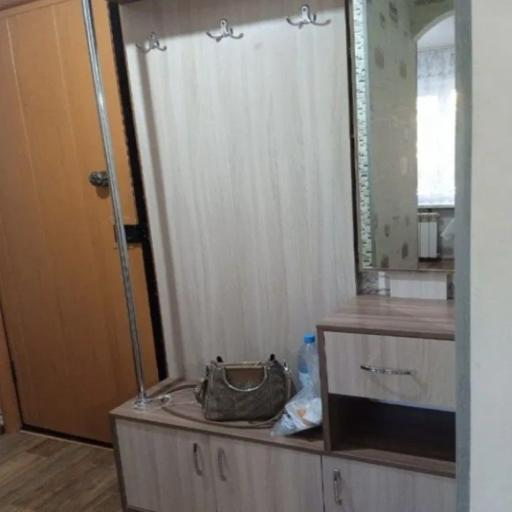bench: (298, 334, 318, 389)
corridor: (0, 0, 136, 440)
curb: (0, 0, 512, 512)
door: (196, 356, 294, 421)
